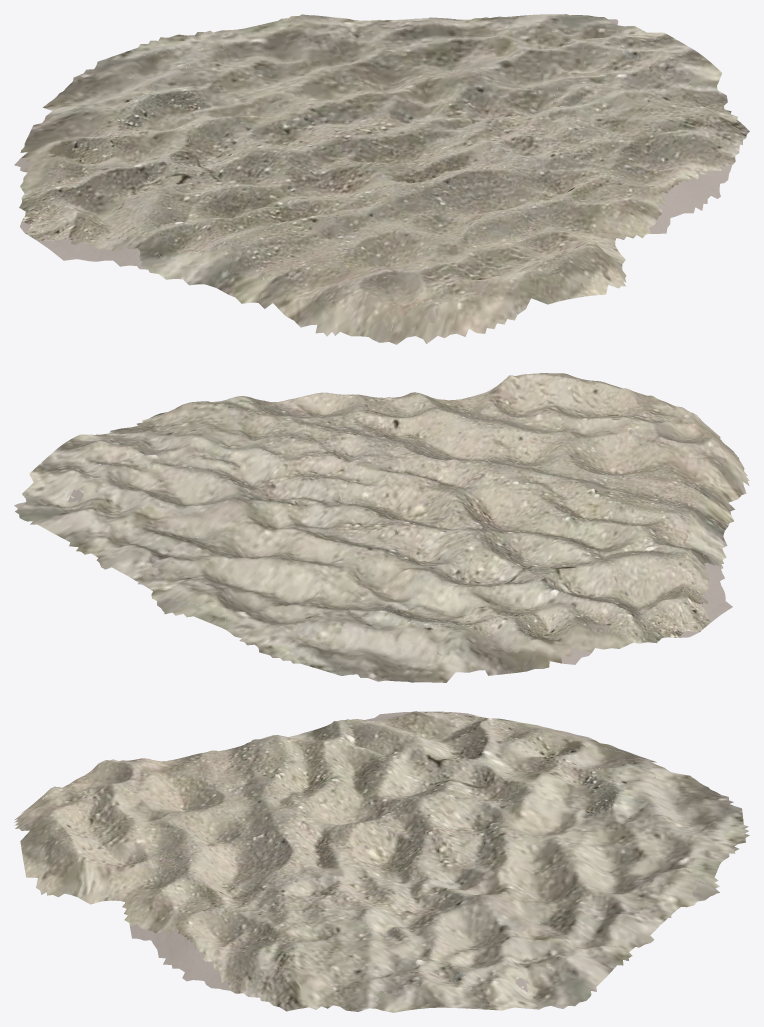
The model's file is sand.glb.
The picture shows the model from 3 angles, top to bottom: view 1: azimuth 30°, elevation 25°; view 2: azimuth 150°, elevation 25°; view 3: azimuth 270°, elevation 25°; orthographic projection. The views are drawn at different scales.
Visible parts, largest first — view 1: modelobjcleanermaterialmergergles; view 2: modelobjcleanermaterialmergergles; view 3: modelobjcleanermaterialmergergles.
Part boxes in pixels (x1=…): modelobjcleanermaterialmergergles: x1=14, y1=14, x2=749, y2=344; modelobjcleanermaterialmergergles: x1=14, y1=373, x2=749, y2=682; modelobjcleanermaterialmergergles: x1=14, y1=711, x2=749, y2=1012.
Size of the model in its own units: 16.93 by 1.04 by 16.48.
2 materials, 2 textured.
